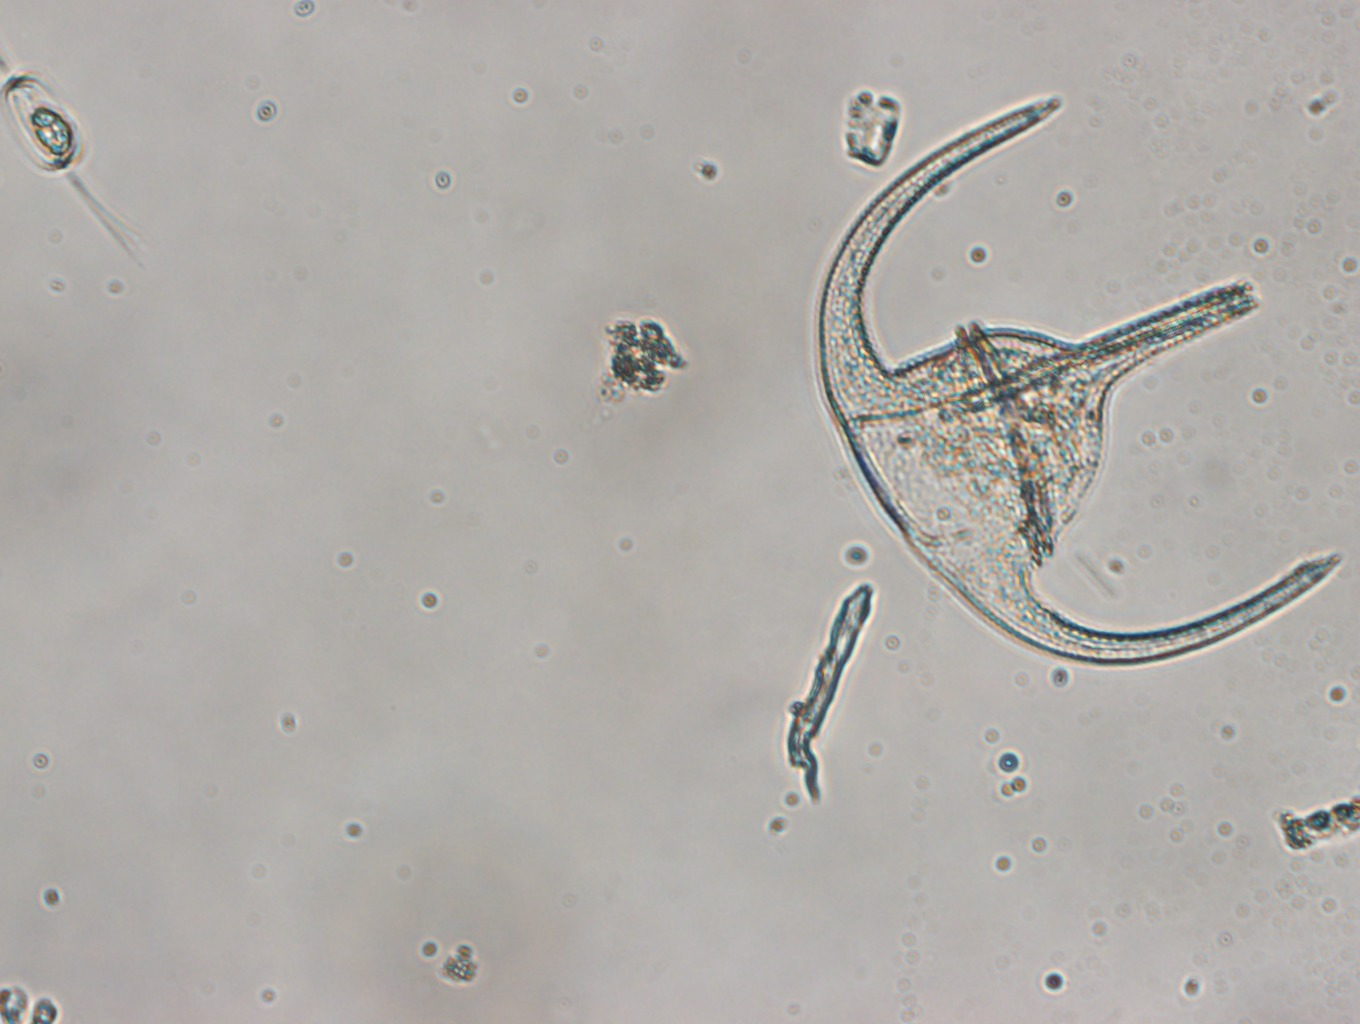ceratium tripos: (808, 65, 1349, 670)
